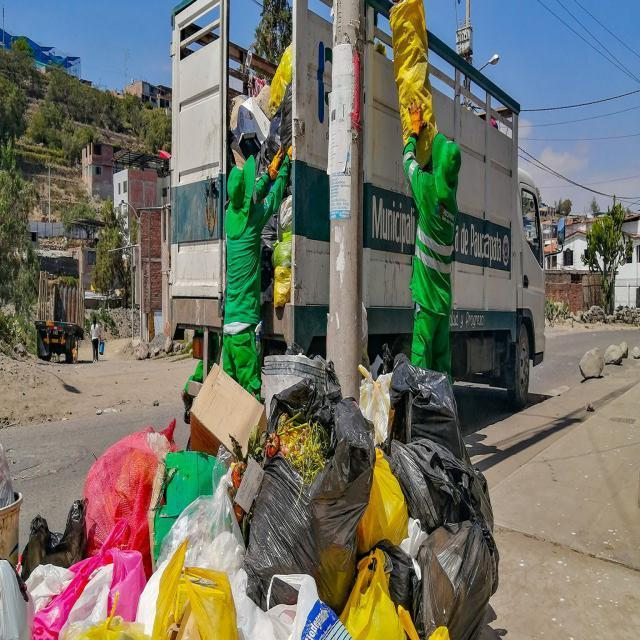Trashbag: (238, 379, 379, 615), (390, 437, 508, 639), (386, 352, 474, 460), (12, 502, 102, 570)
